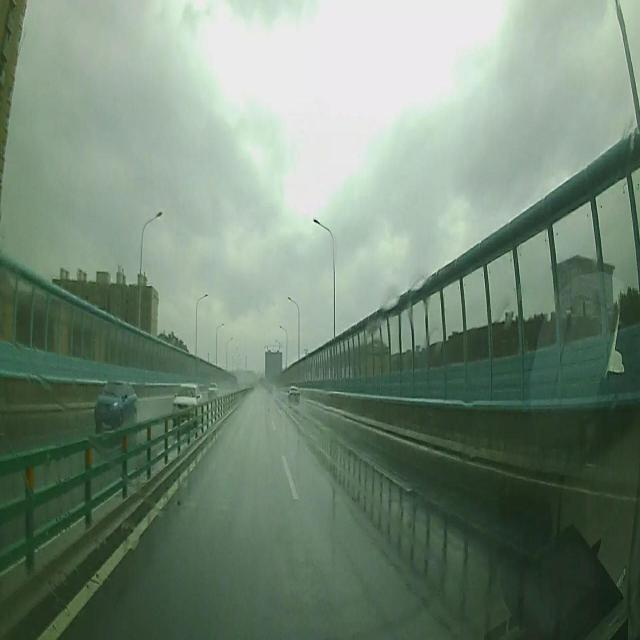car: (95, 375, 138, 428), (172, 382, 201, 414), (286, 384, 301, 404), (206, 378, 219, 401)
